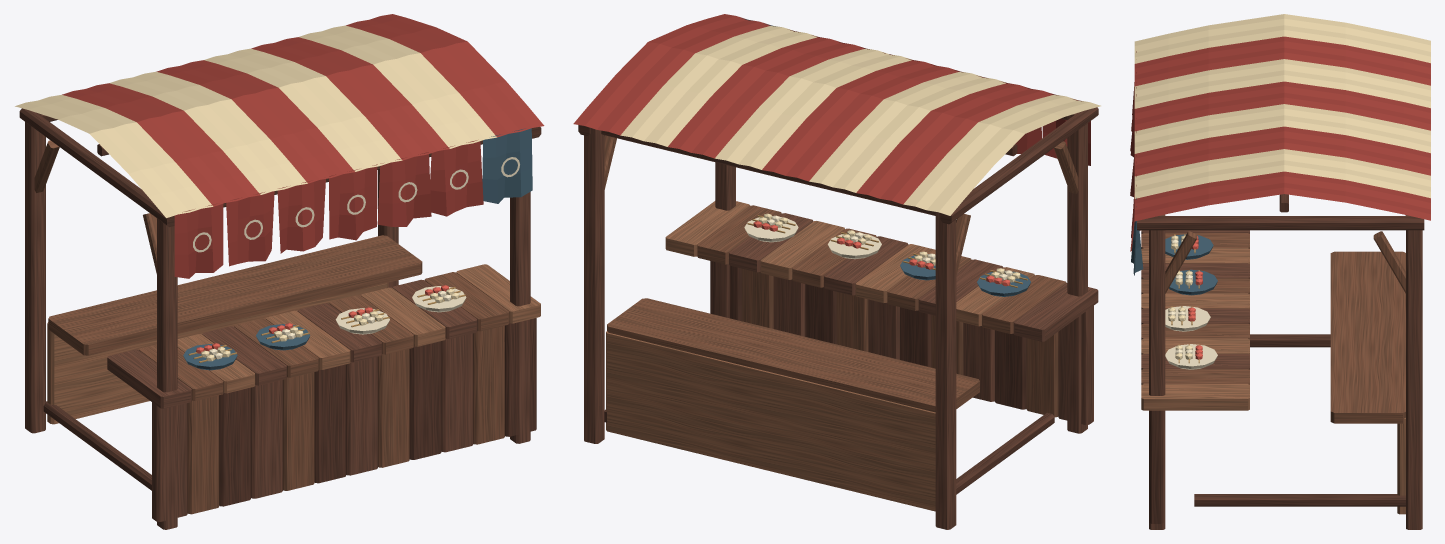
File: festival-stall.glb
The picture shows the model from 3 angles, left to right: view 1: azimuth 30°, elevation 25°; view 2: azimuth 150°, elevation 25°; view 3: azimuth 270°, elevation 25°; orthographic projection. The views are drawn at different scales.
Visible parts, largest first — view 1: Mortised stall framing, display shelves and counter, Stitched two-tone canopy and hanging noren, Glazed plates, skewered dumplings and wares; view 2: Mortised stall framing, display shelves and counter, Stitched two-tone canopy and hanging noren, Glazed plates, skewered dumplings and wares; view 3: Stitched two-tone canopy and hanging noren, Mortised stall framing, display shelves and counter, Glazed plates, skewered dumplings and wares.
Boxes of the visible parts, x1=… form: Mortised stall framing, display shelves and counter: x1=19, y1=108, x2=541, y2=529; Stitched two-tone canopy and hanging noren: x1=15, y1=14, x2=544, y2=278; Glazed plates, skewered dumplings and wares: x1=183, y1=285, x2=466, y2=370; Mortised stall framing, display shelves and counter: x1=578, y1=107, x2=1098, y2=529; Stitched two-tone canopy and hanging noren: x1=573, y1=14, x2=1100, y2=215; Glazed plates, skewered dumplings and wares: x1=744, y1=213, x2=1030, y2=296; Stitched two-tone canopy and hanging noren: x1=1130, y1=14, x2=1430, y2=275; Mortised stall framing, display shelves and counter: x1=1137, y1=194, x2=1424, y2=529; Glazed plates, skewered dumplings and wares: x1=1165, y1=234, x2=1217, y2=369.
Size of the model in its own units: 3 by 2.62 by 2.1.
3 materials, 1 textured.
